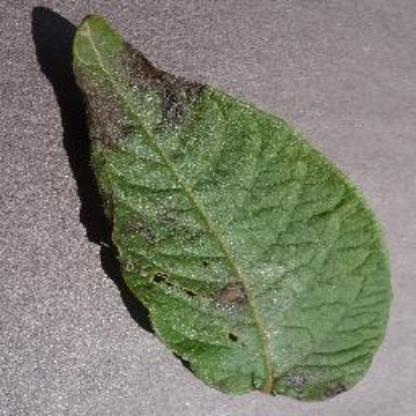Late-Blight: (38, 6, 398, 408)
